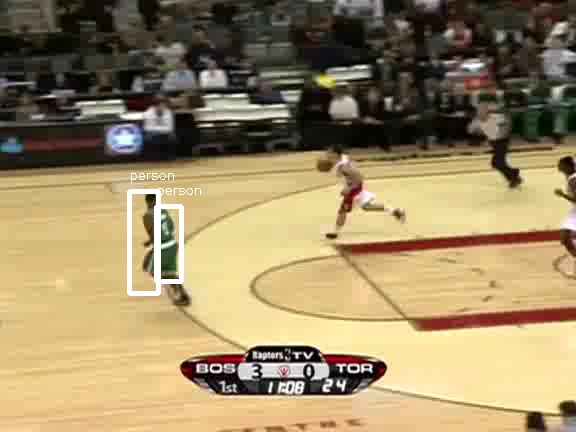person: (146, 202, 180, 283), (145, 202, 179, 283), (147, 202, 181, 283), (146, 201, 180, 282), (146, 203, 180, 284)
target_negative: (325, 162, 564, 331), (363, 7, 453, 249), (513, 19, 563, 353), (363, 32, 498, 116), (438, 250, 574, 276), (404, 215, 408, 299)
